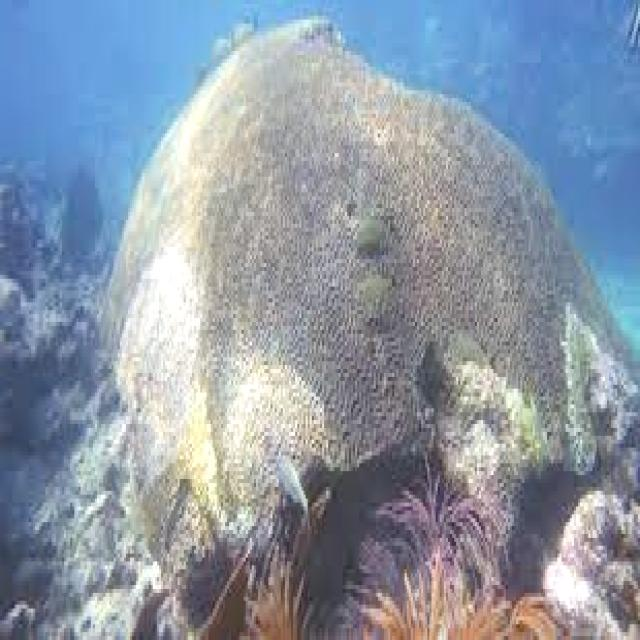Coral: (94, 13, 639, 597)
